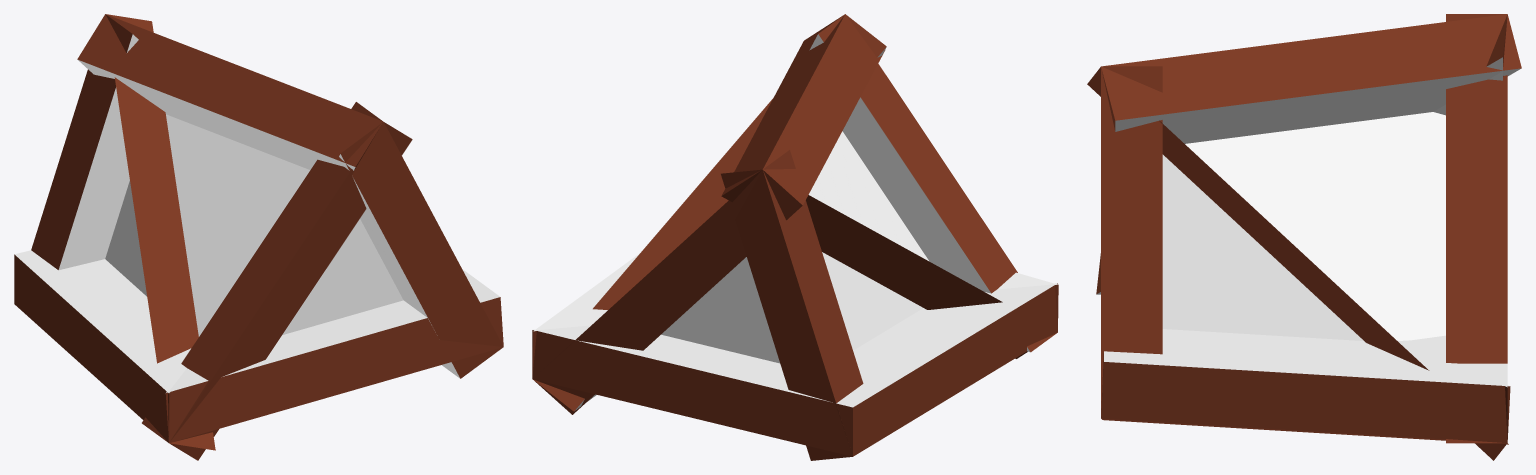
Rendered from jap16.fbx.
3 renders of one model, left to right at view 1: azimuth 30°, elevation 25°; view 2: azimuth 150°, elevation 25°; view 3: azimuth 270°, elevation 25°, orthographic. The views are drawn at different scales.
Parts seen in each view (by area): view 1: Cylinder; view 2: Cylinder; view 3: Cylinder.
Part boxes in pixels (x1,y1,x2,y2): Cylinder: [14, 14, 503, 460]; Cylinder: [532, 14, 1058, 460]; Cylinder: [1087, 14, 1521, 460].
Size of the model in its own units: 508 by 416 by 484.
